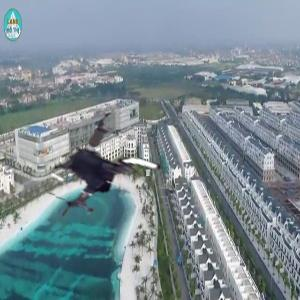drone: (41, 108, 178, 245)
